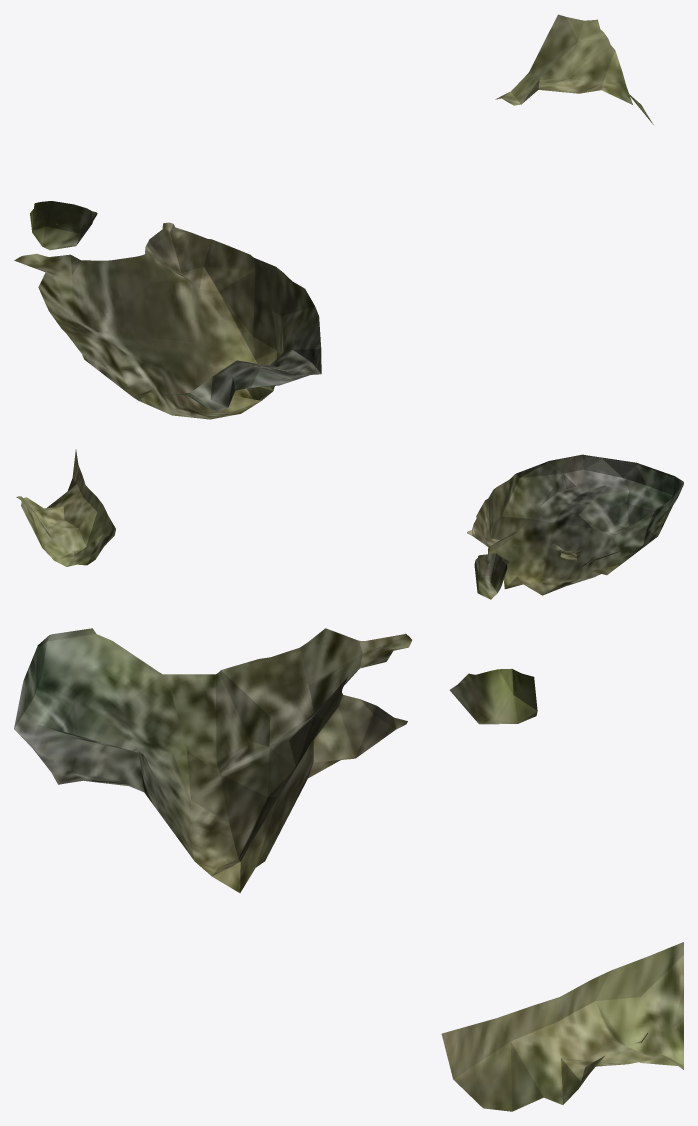
3 renders of one model, top to bottom at view 1: azimuth 30°, elevation 25°; view 2: azimuth 150°, elevation 25°; view 3: azimuth 270°, elevation 25°, orthographic. The views are drawn at different scales.
Size of the model in its own units: 5.9 by 1.08 by 4.12.
Materials: 1 (1 with a texture image).
